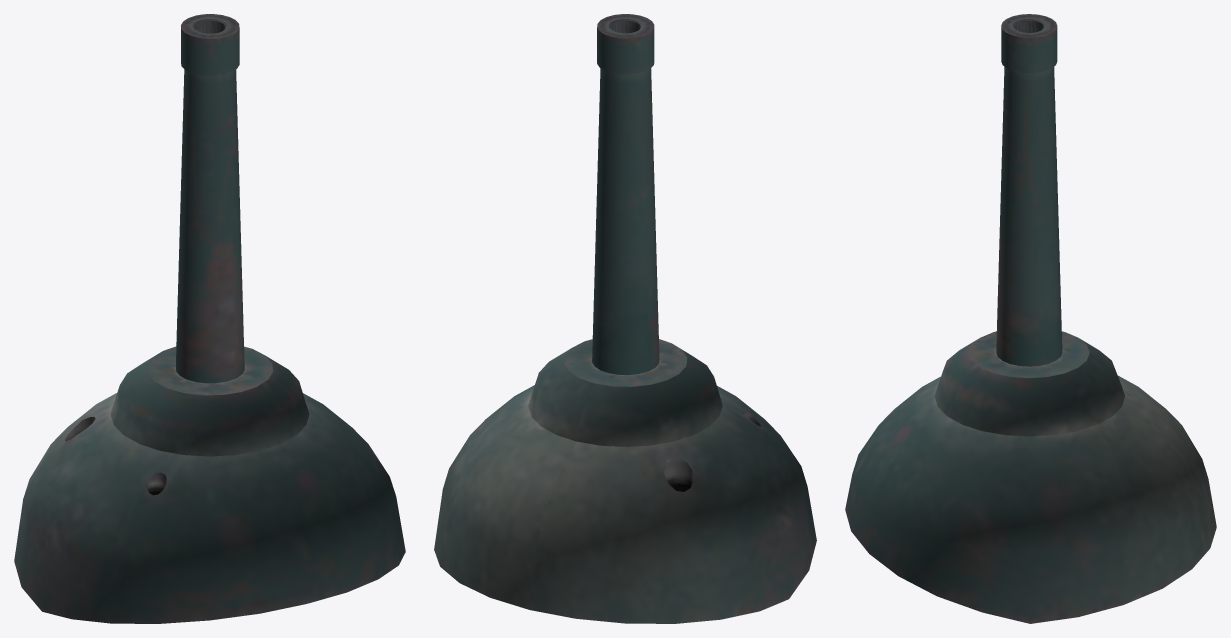
The model's file is Gun_03.glb.
The picture shows the model from 3 angles, left to right: view 1: azimuth 30°, elevation 25°; view 2: azimuth 150°, elevation 25°; view 3: azimuth 270°, elevation 25°; orthographic projection. The views are drawn at different scales.
Visible parts, largest first — view 1: set_0_group_0; view 2: set_0_group_0; view 3: set_0_group_0.
Part boxes in pixels (bbox=[...]): set_0_group_0: bbox=[14, 14, 405, 623]; set_0_group_0: bbox=[434, 14, 816, 623]; set_0_group_0: bbox=[845, 14, 1216, 623].
Bounding box in the file's own units: 0.607 × 0.9428 × 0.6108.
1 material, 1 textured.
